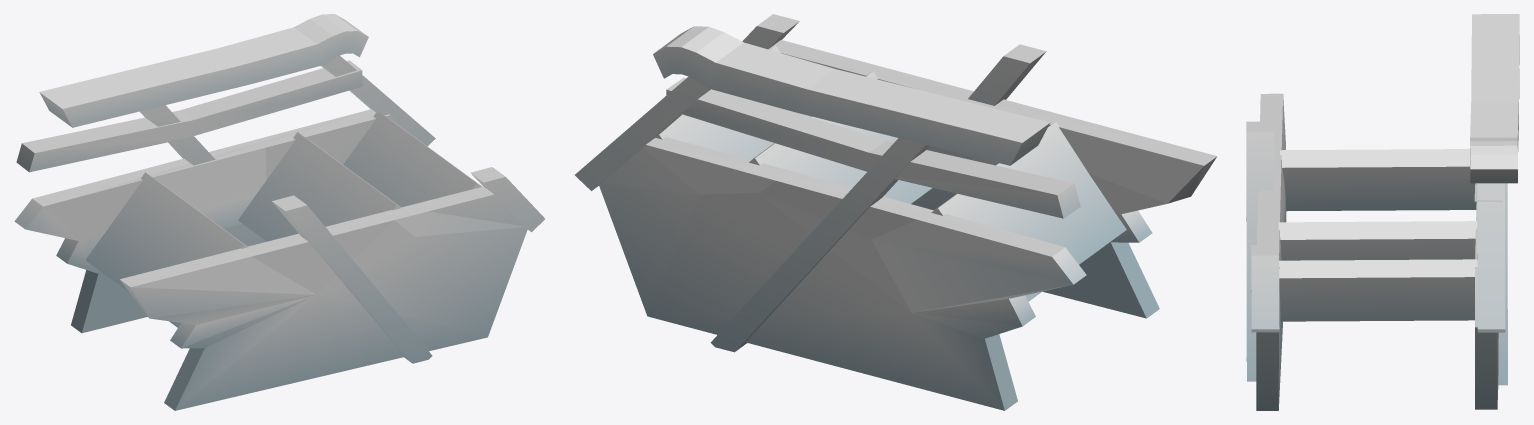
The model's file is FloatingStaircase.gltf.
The picture shows the model from 3 angles, left to right: view 1: azimuth 30°, elevation 25°; view 2: azimuth 150°, elevation 25°; view 3: azimuth 270°, elevation 25°; orthographic projection. The views are drawn at different scales.
Visible parts, largest first — view 1: FloatingStaircaseMesh; view 2: FloatingStaircaseMesh; view 3: FloatingStaircaseMesh.
Part boxes in pixels (left/top/right/bottom): FloatingStaircaseMesh: left=14, top=14, right=544, bottom=410; FloatingStaircaseMesh: left=575, top=14, right=1217, bottom=410; FloatingStaircaseMesh: left=1246, top=14, right=1519, bottom=410.
Size of the model in its own units: 5.45 by 3.11 by 3.06.
